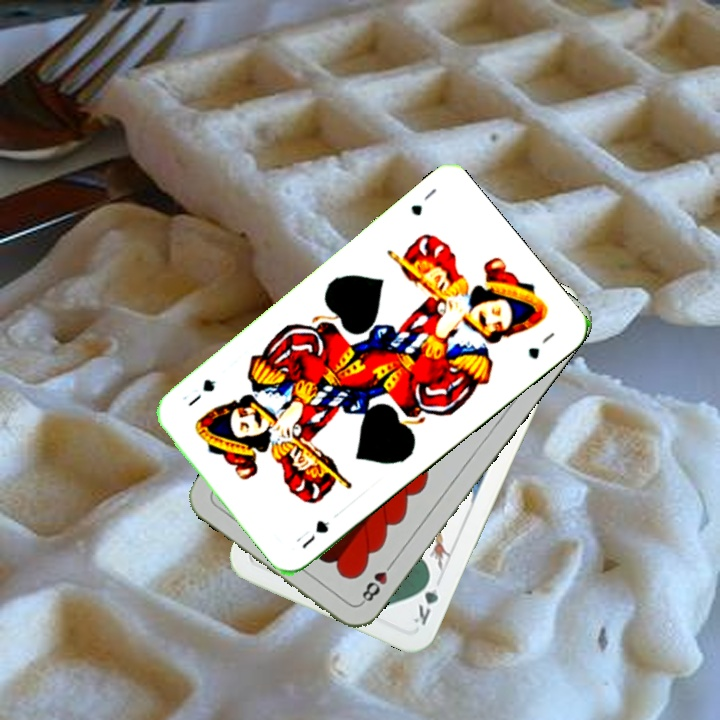GK: (409, 571, 443, 628)
GU: (297, 515, 332, 552), (406, 183, 440, 219)
H8: (357, 556, 397, 607)
